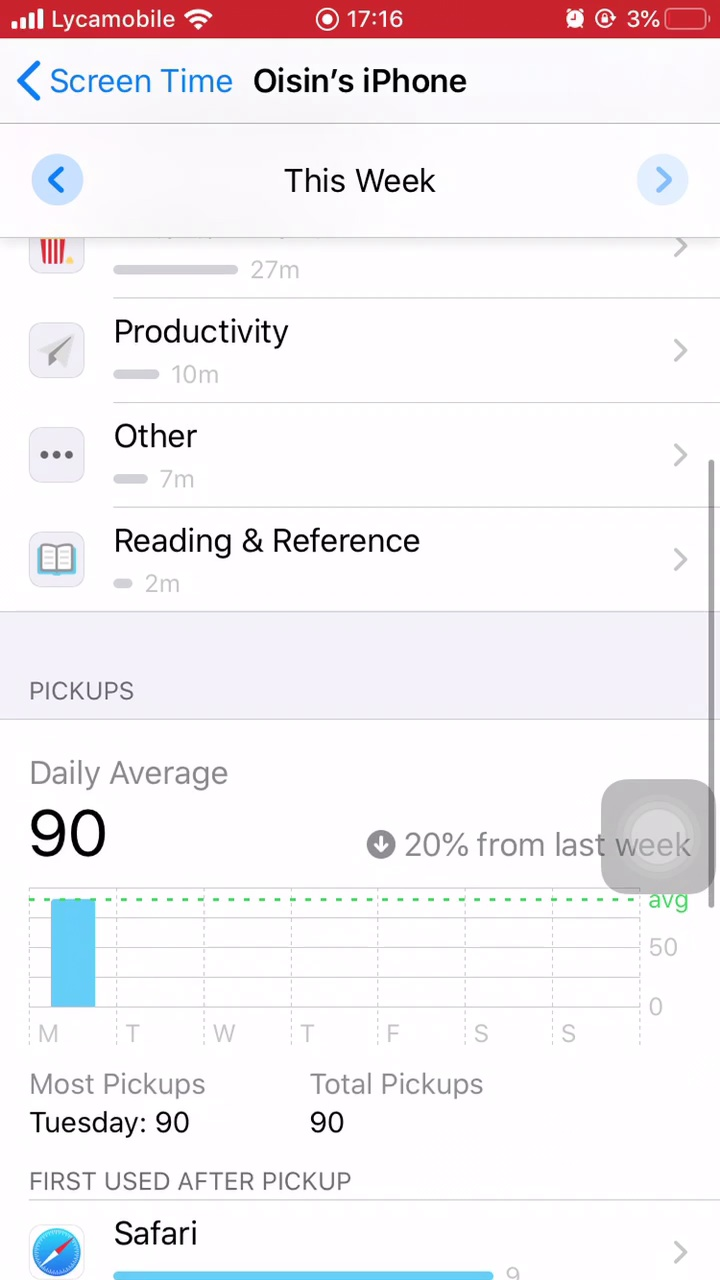pick_app: (18, 1203, 532, 1280)
pick_over: (28, 1063, 548, 1157)
week: (264, 152, 450, 214)
